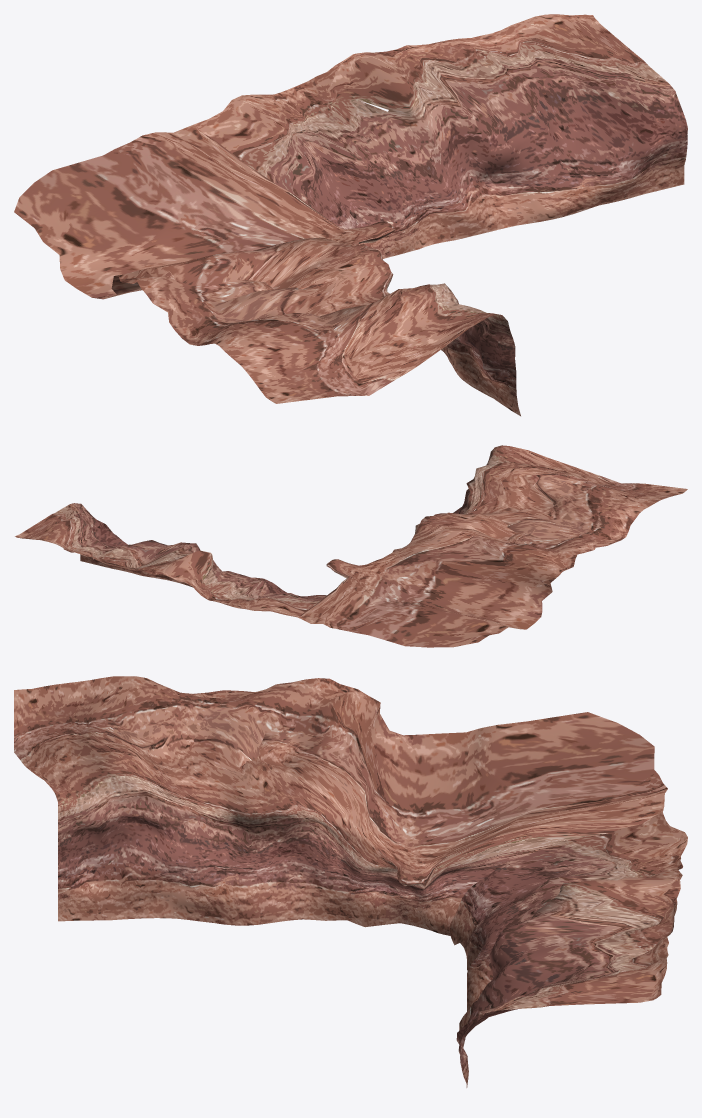
The model's file is sdda_cliff2.fbx.
The picture shows the model from 3 angles, top to bottom: view 1: azimuth 30°, elevation 25°; view 2: azimuth 150°, elevation 25°; view 3: azimuth 270°, elevation 25°; orthographic projection. The views are drawn at different scales.
Visible parts, largest first — view 1: cliff2:polySurface217; view 2: cliff2:polySurface217; view 3: cliff2:polySurface217.
Part boxes in pixels (x1,y1,x2,y2): cliff2:polySurface217: [14, 14, 687, 416]; cliff2:polySurface217: [15, 445, 687, 647]; cliff2:polySurface217: [14, 676, 687, 1087].
Size of the model in its own units: 240 by 47.22 by 214.
